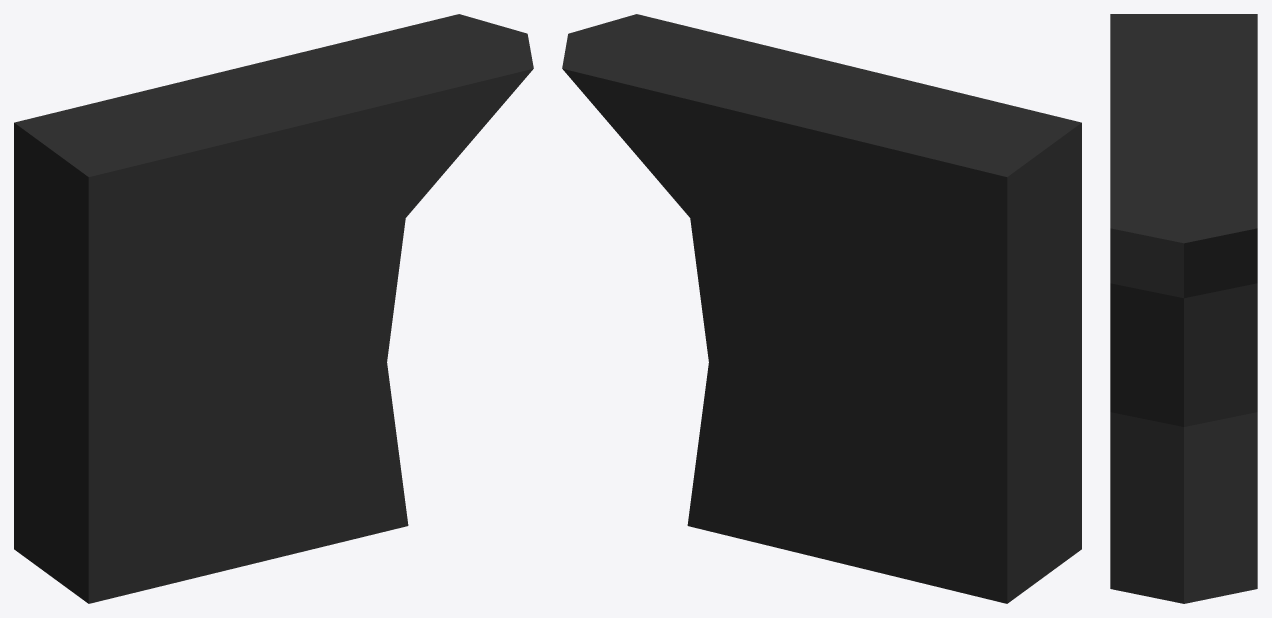
File: SMG4_04_2.fbx
The picture shows the model from 3 angles, left to right: view 1: azimuth 30°, elevation 25°; view 2: azimuth 150°, elevation 25°; view 3: azimuth 270°, elevation 25°; orthographic projection.
Parts seen in each view (by area): view 1: SMG4_04_2; view 2: SMG4_04_2; view 3: SMG4_04_2.
Part boxes in pixels (x1,y1,x2,y2): SMG4_04_2: (14, 14, 533, 603); SMG4_04_2: (562, 14, 1081, 603); SMG4_04_2: (1110, 14, 1257, 603).
Bounding box in the file's own units: 0.0446 × 0.0382 × 0.0121.
